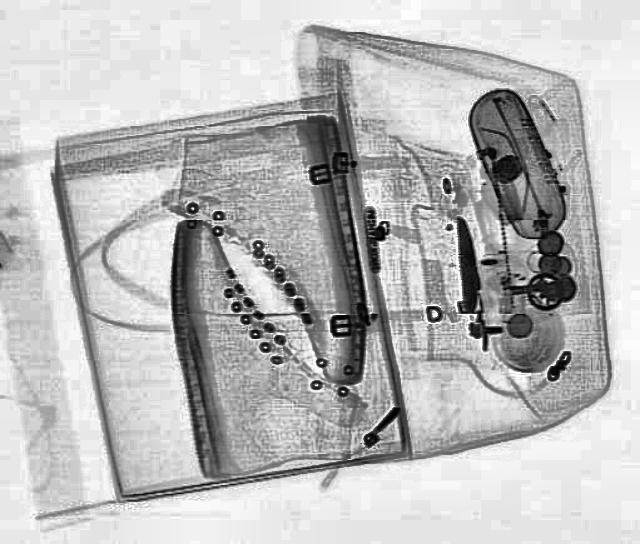Knife: (452, 214, 484, 312)
